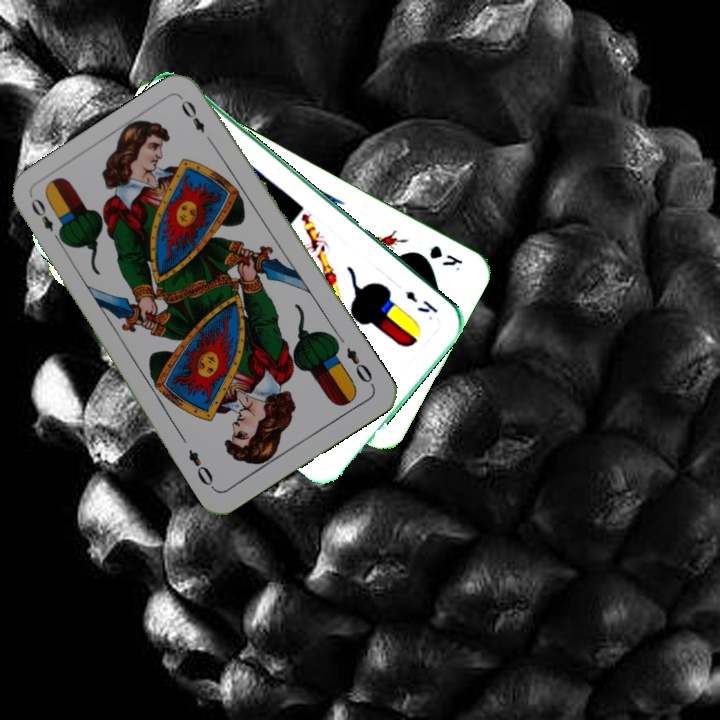EK: (402, 286, 440, 316)
EO: (26, 194, 66, 247), (342, 343, 377, 390)
GK: (425, 241, 465, 269)
